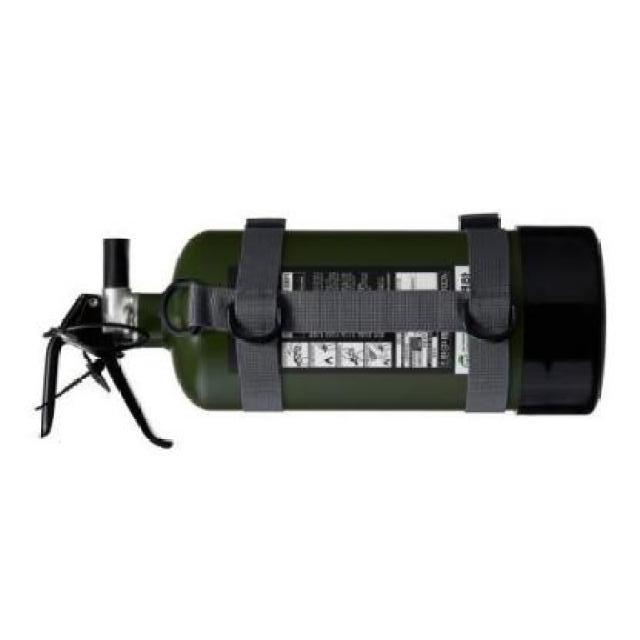fire extinguisher: (39, 213, 604, 449)
